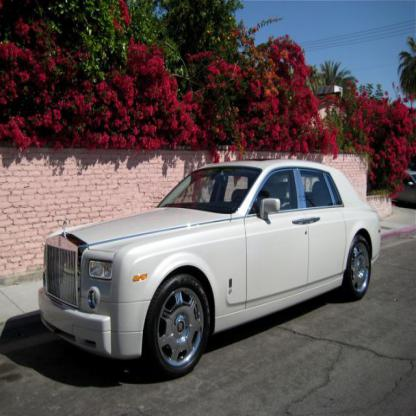Vehicle: (39, 160, 382, 380)
